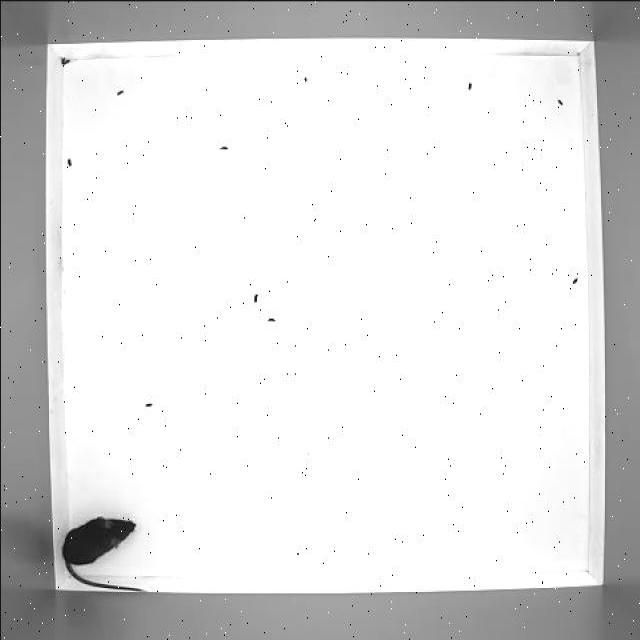rat: (62, 515, 146, 592)
